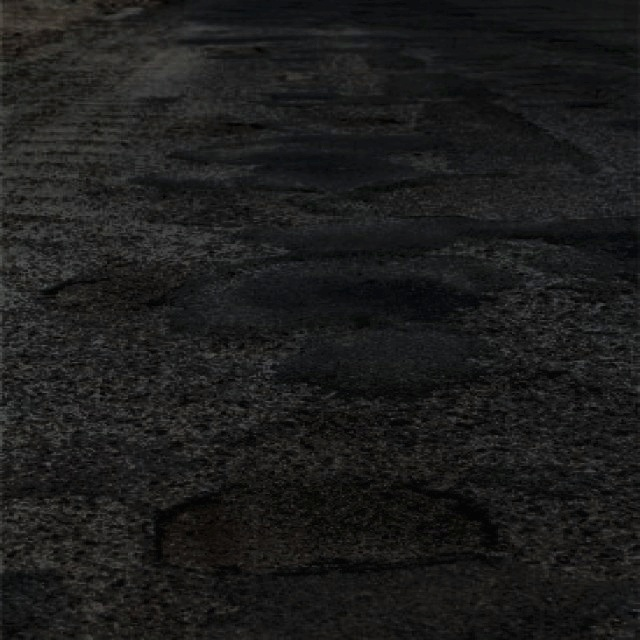Pothole: (140, 472, 506, 580)
